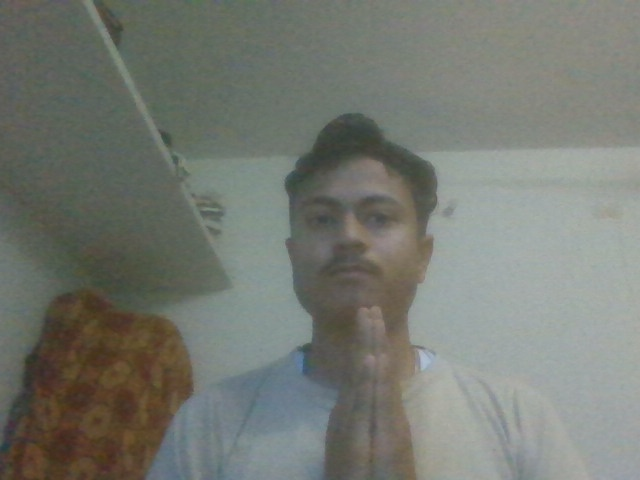Namaste: (319, 304, 430, 480)
